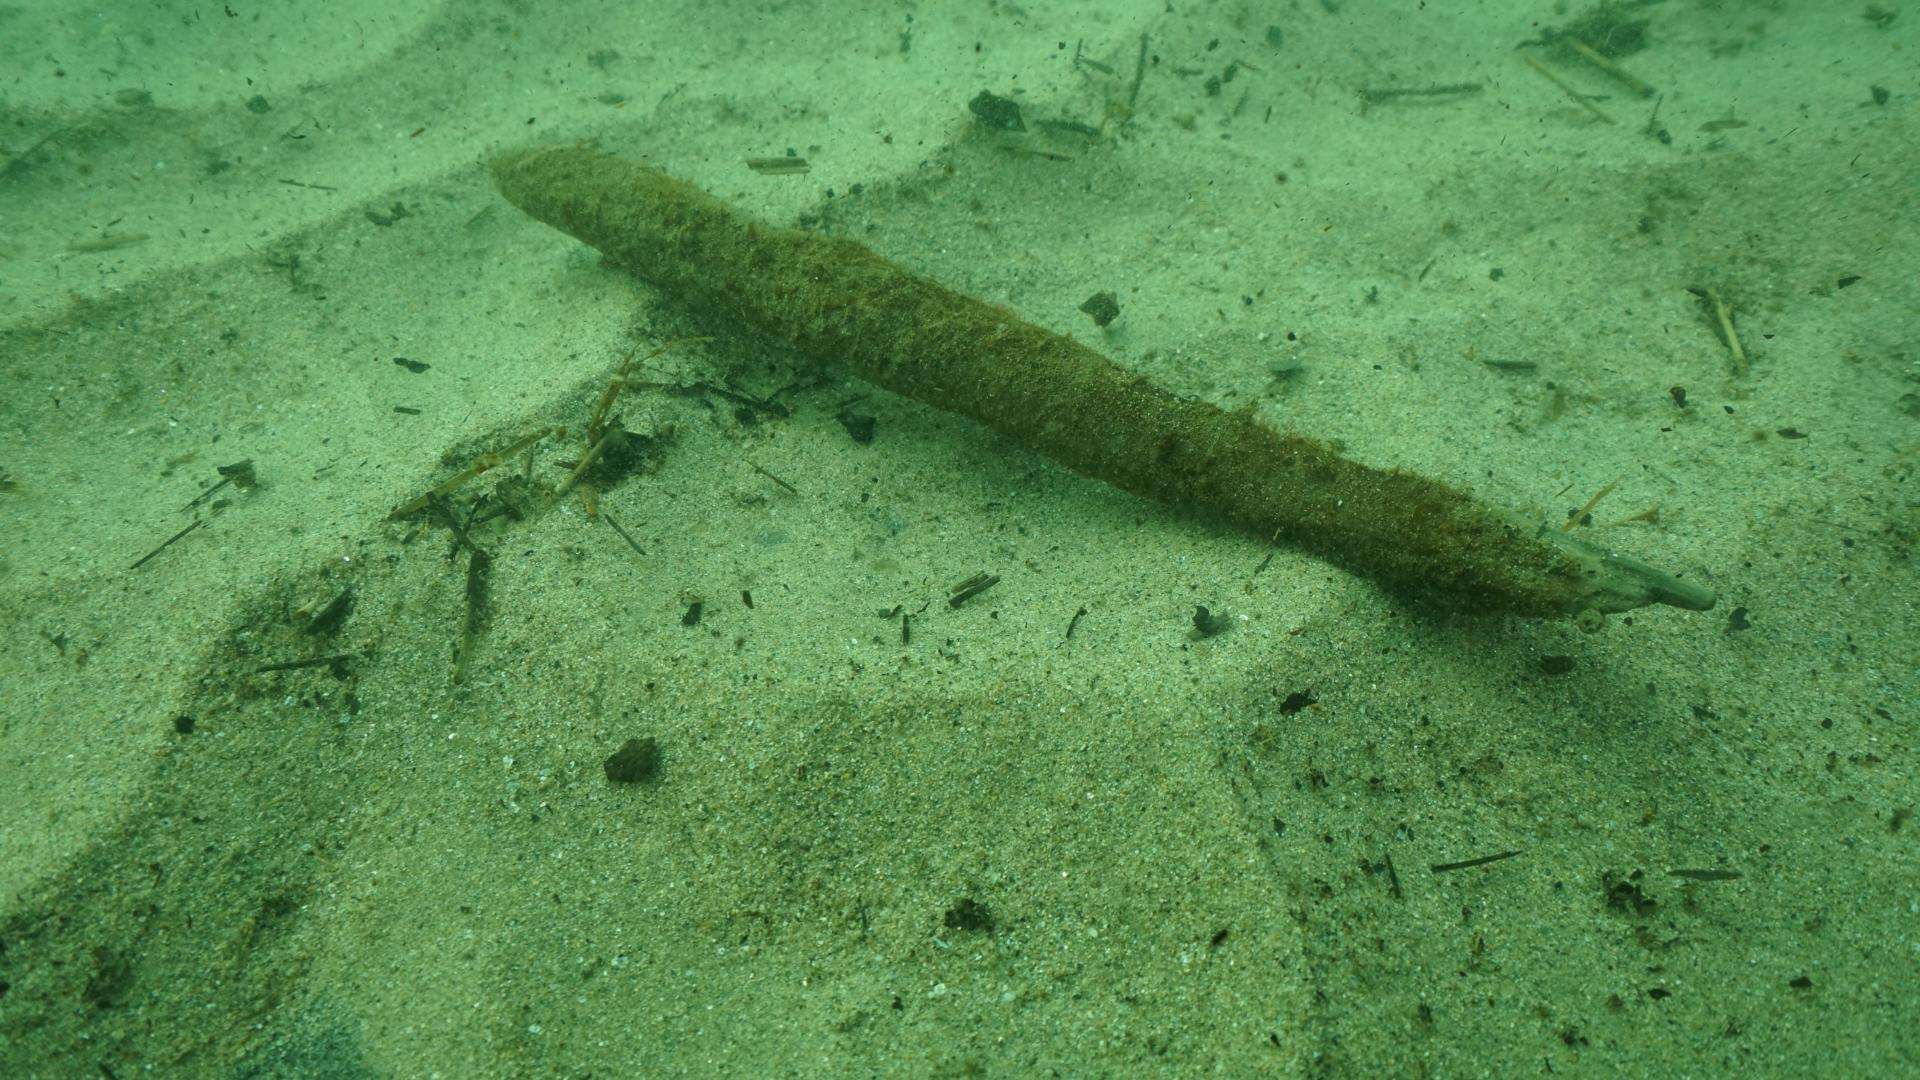wood: (480, 140, 1718, 616)
